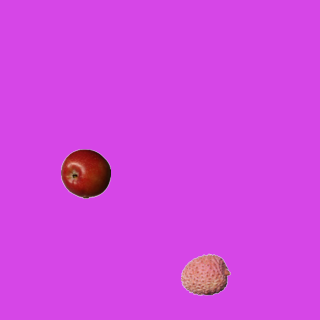Apple Braeburn: (60, 148, 110, 198)
Lychee: (180, 249, 230, 299)
